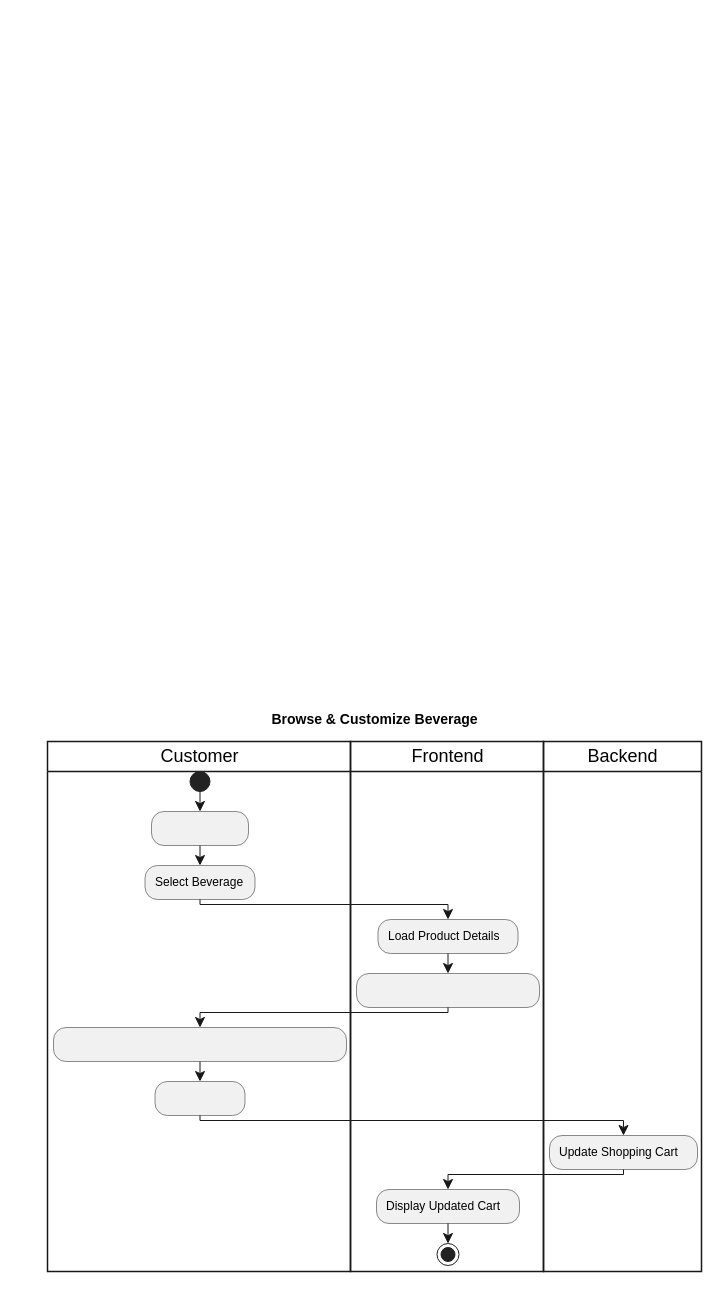
The diagram is 719 pixels wide and 1289 high, and some of its shapes have lost their labels. The centre of each missing label's shape, as x and y in pixels:
Add To Cart: point 199,1098
Browse Menu: point 199,828
Customize Options (Size, Sugar, Ice, Toppings): point 199,1044
Display Product Information: point 447,990
